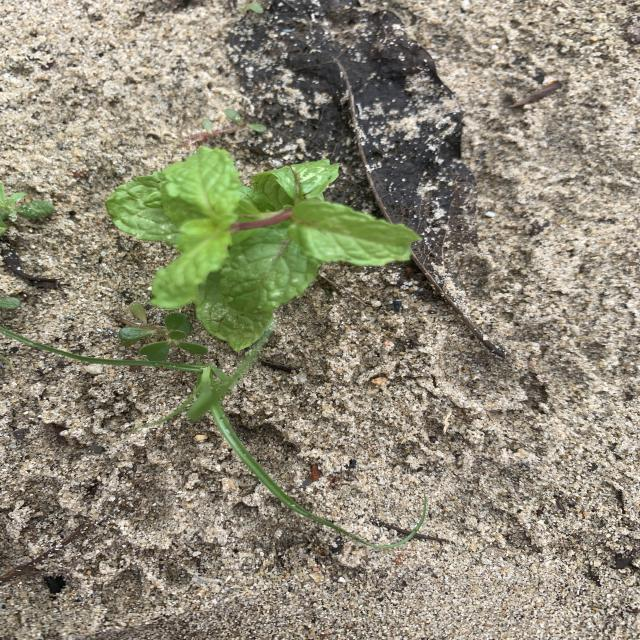crop: (106, 147, 420, 351)
weed: (142, 343, 347, 534), (119, 302, 208, 362), (0, 182, 54, 236), (185, 109, 267, 144), (0, 296, 20, 310), (245, 0, 263, 14)
